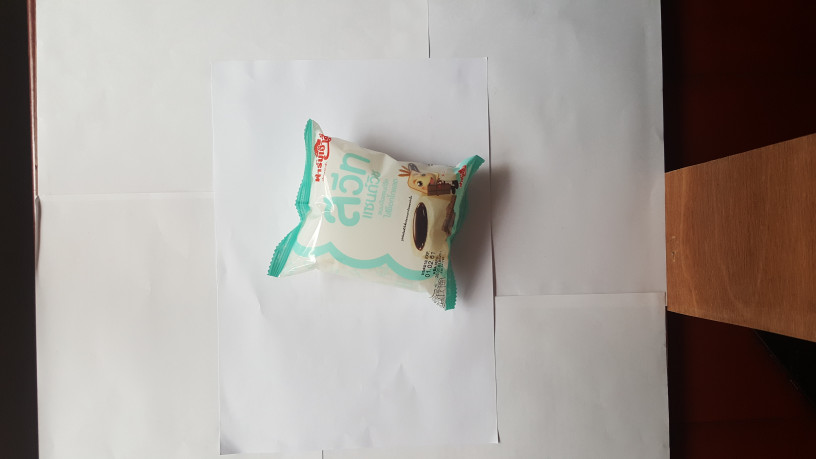farmhouse-sweetsandwich-chocolate: (265, 117, 485, 314)
